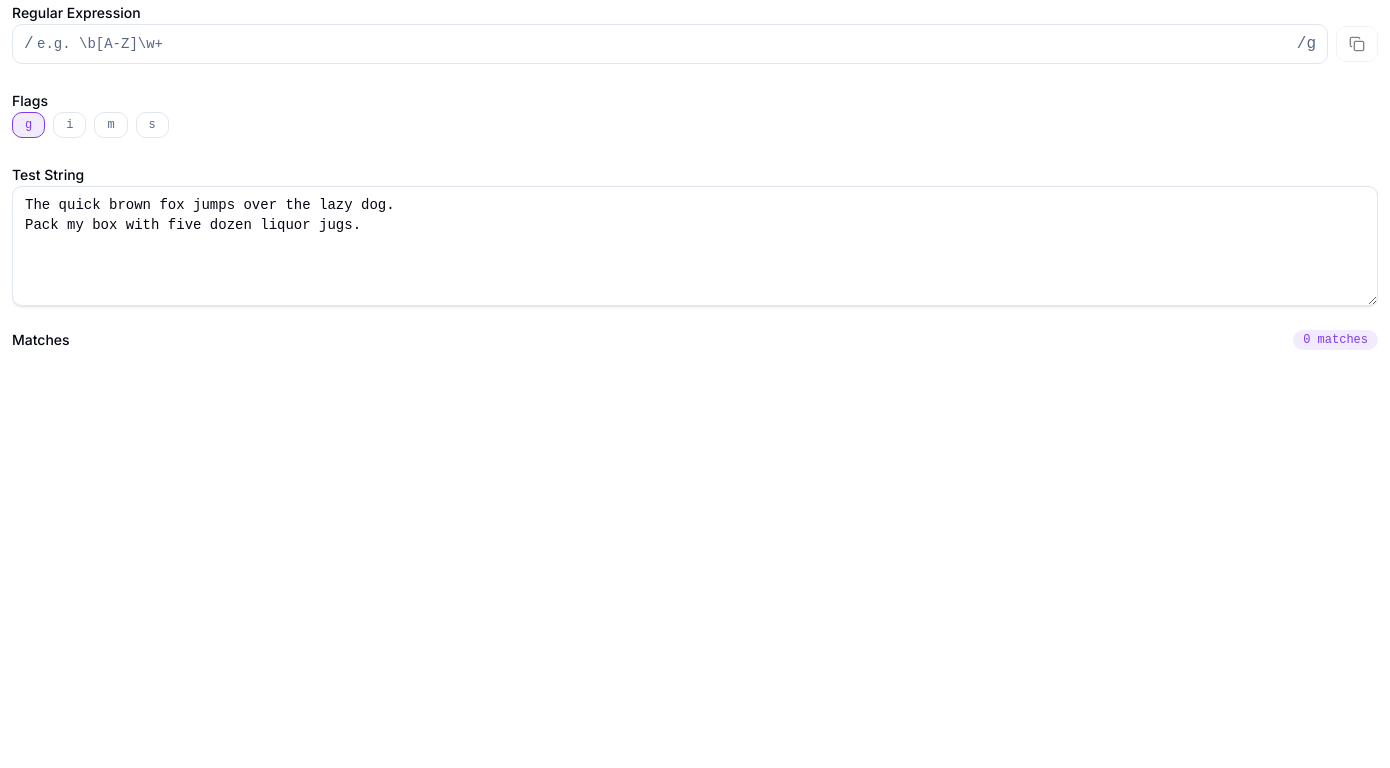
Test: RegexTester › toggles the case-insensitive flag
The width and height of the screenshot is (1390, 768).
Replace the text in the text box labelled "Test String" with "Hello World": {"x": 695, "y": 246} x1=12 y1=186 x2=1378 y2=306
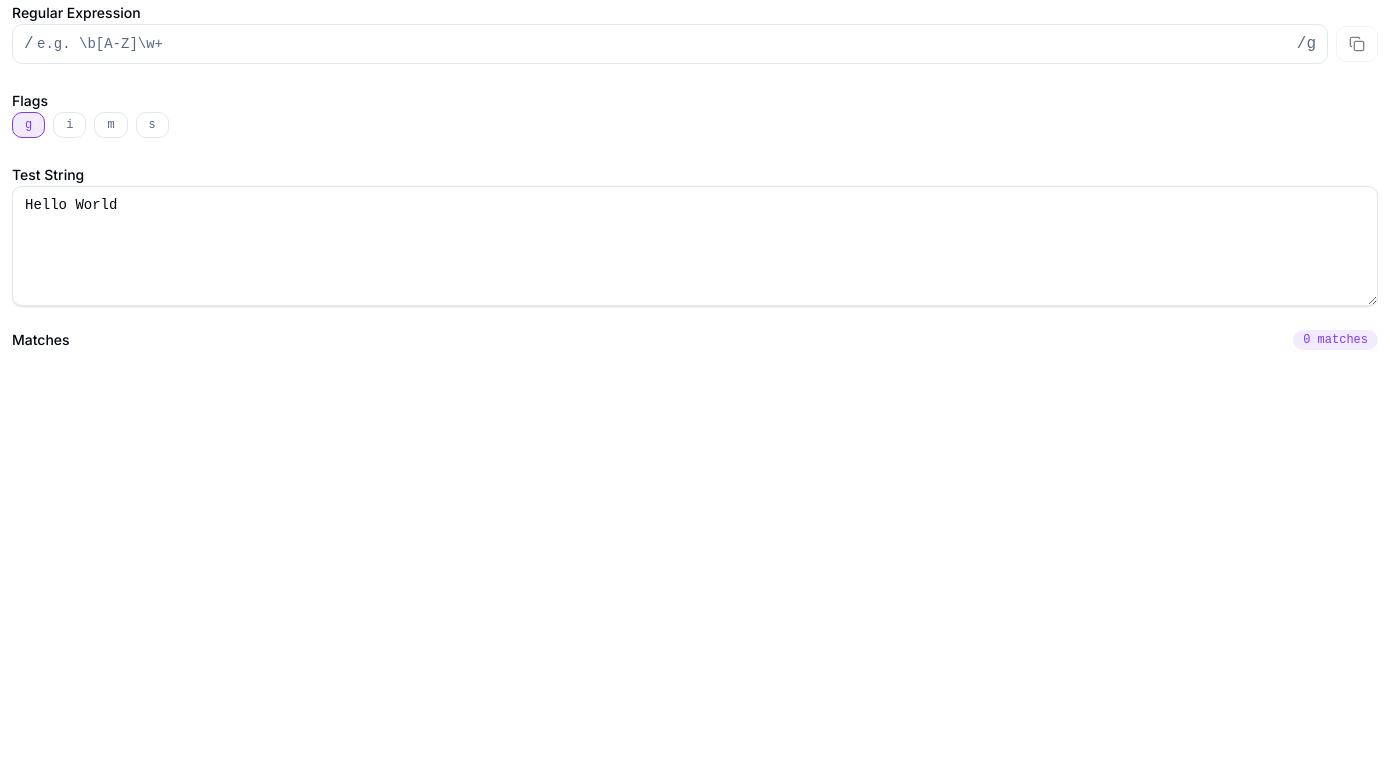
In the field labelled "Regular Expression": {"x": 670, "y": 44} x1=12 y1=24 x2=1328 y2=64, type "hello"
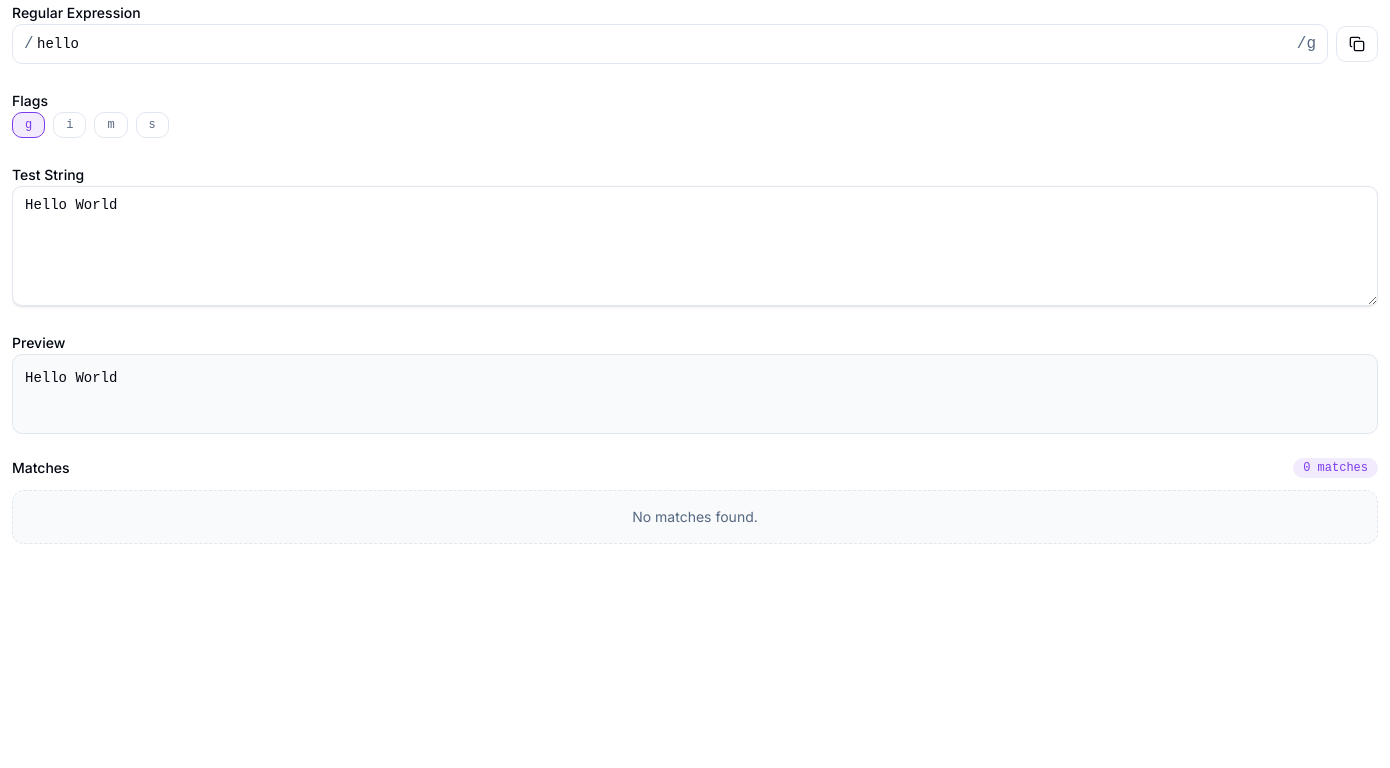
Expected: the text "0 matches" is shown, x1=1293 y1=458 x2=1378 y2=478
// Toggle 'i' flag on
Click the button titled "Case insensitive": {"x": 70, "y": 125} x1=53 y1=112 x2=86 y2=138
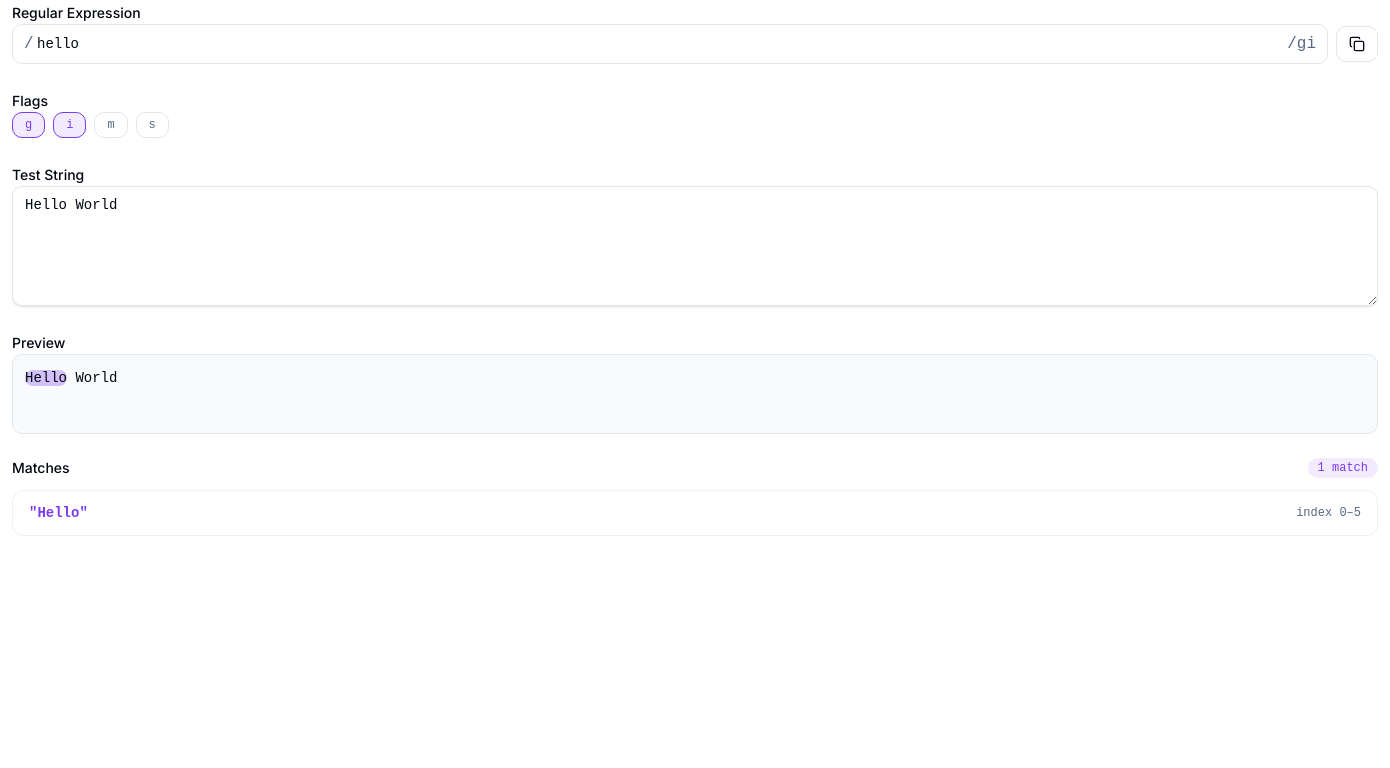
Expected: the text "1 match" is shown, x1=1308 y1=458 x2=1378 y2=478
